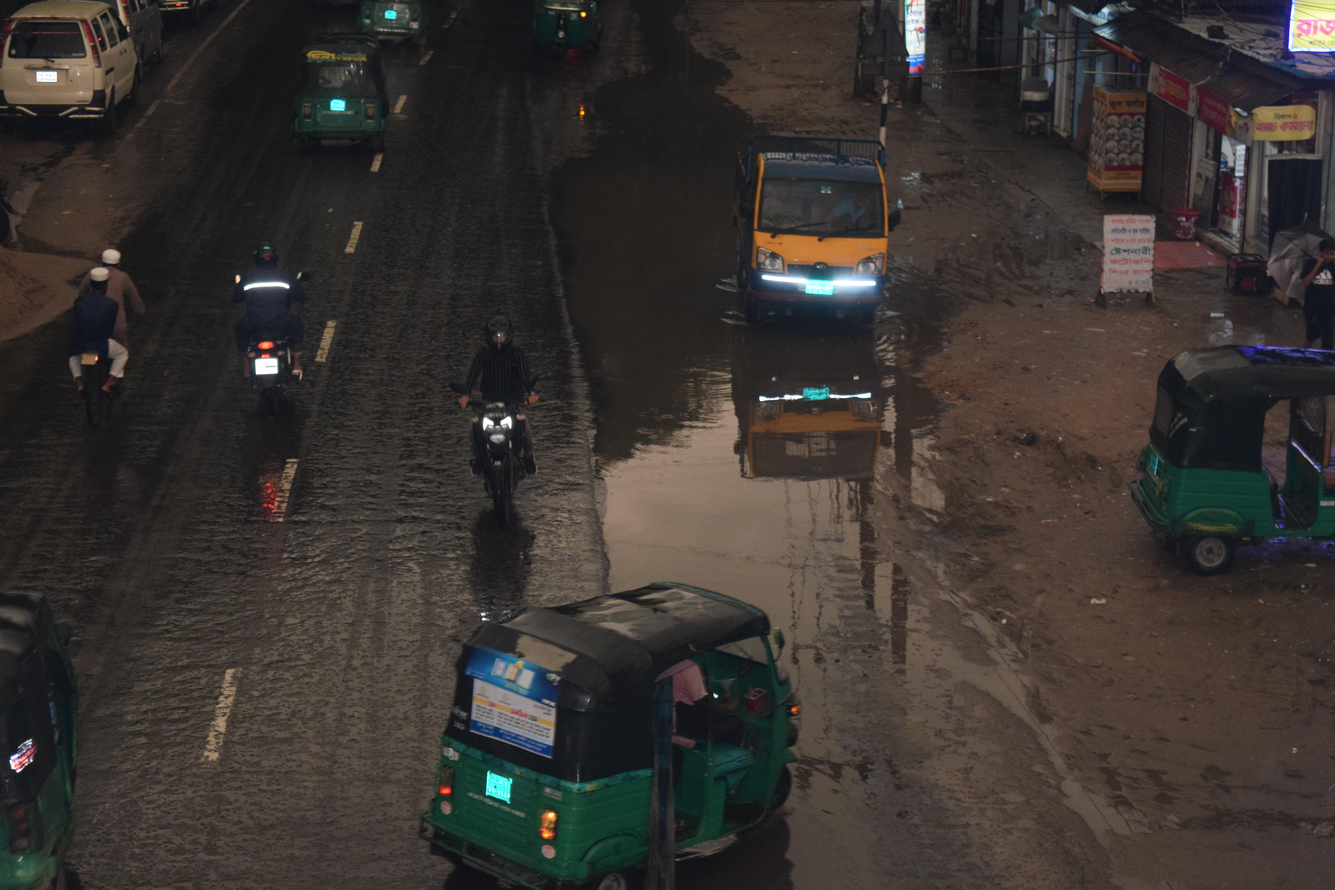Bike: (423, 291, 588, 549), (36, 220, 172, 480), (198, 218, 360, 434)
Car: (0, 0, 171, 153)
